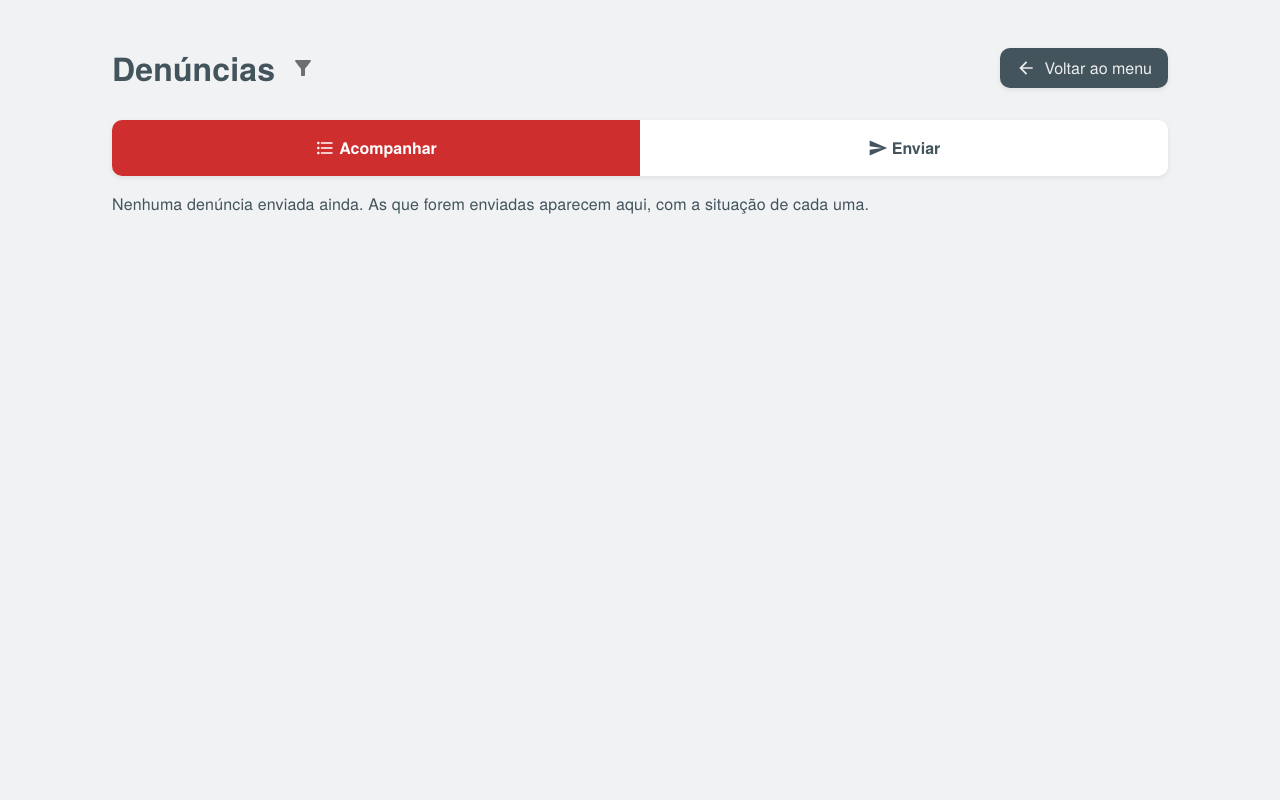
Test: Reports › should close the form and select the list tab again
Click the tab "Enviar" at {"x": 904, "y": 148}, box [640,120,1168,176]
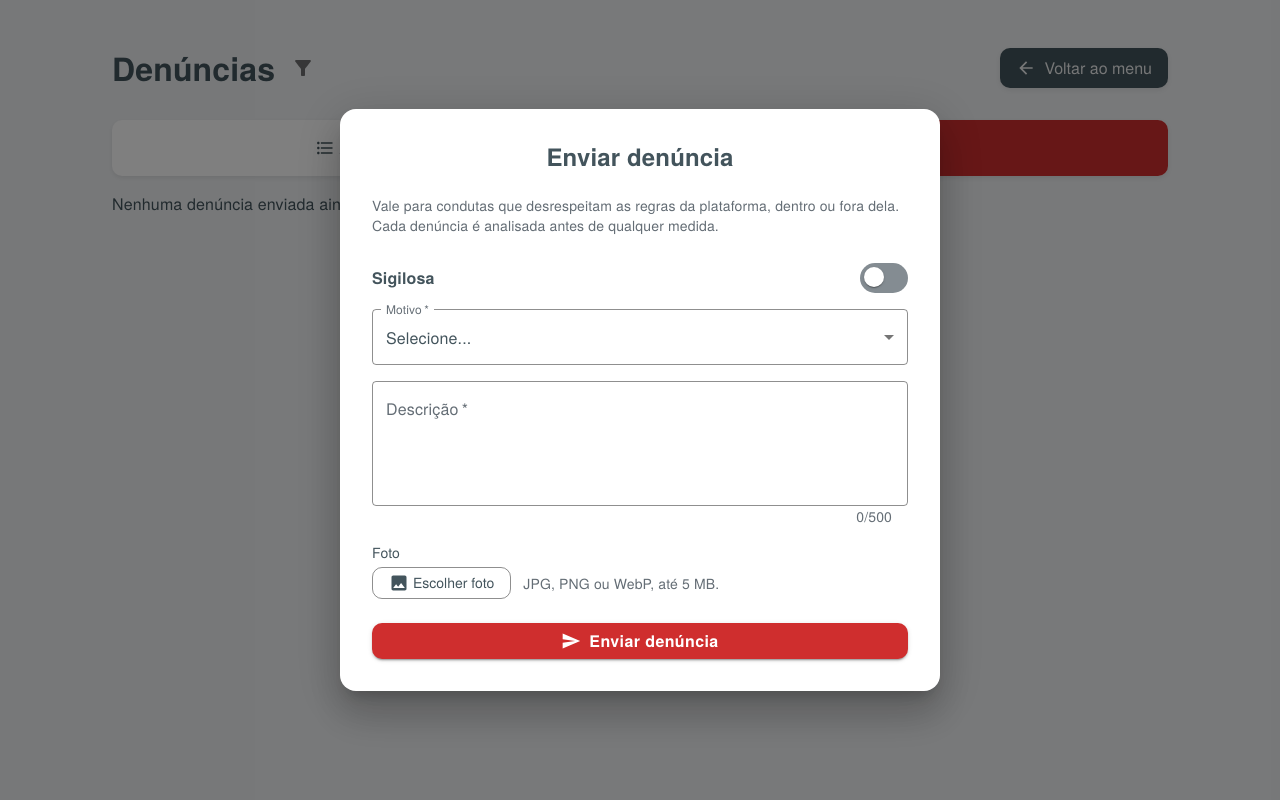
Now the heading "Enviar denúncia" is shown, box [546,139,734,173]
Press Escape
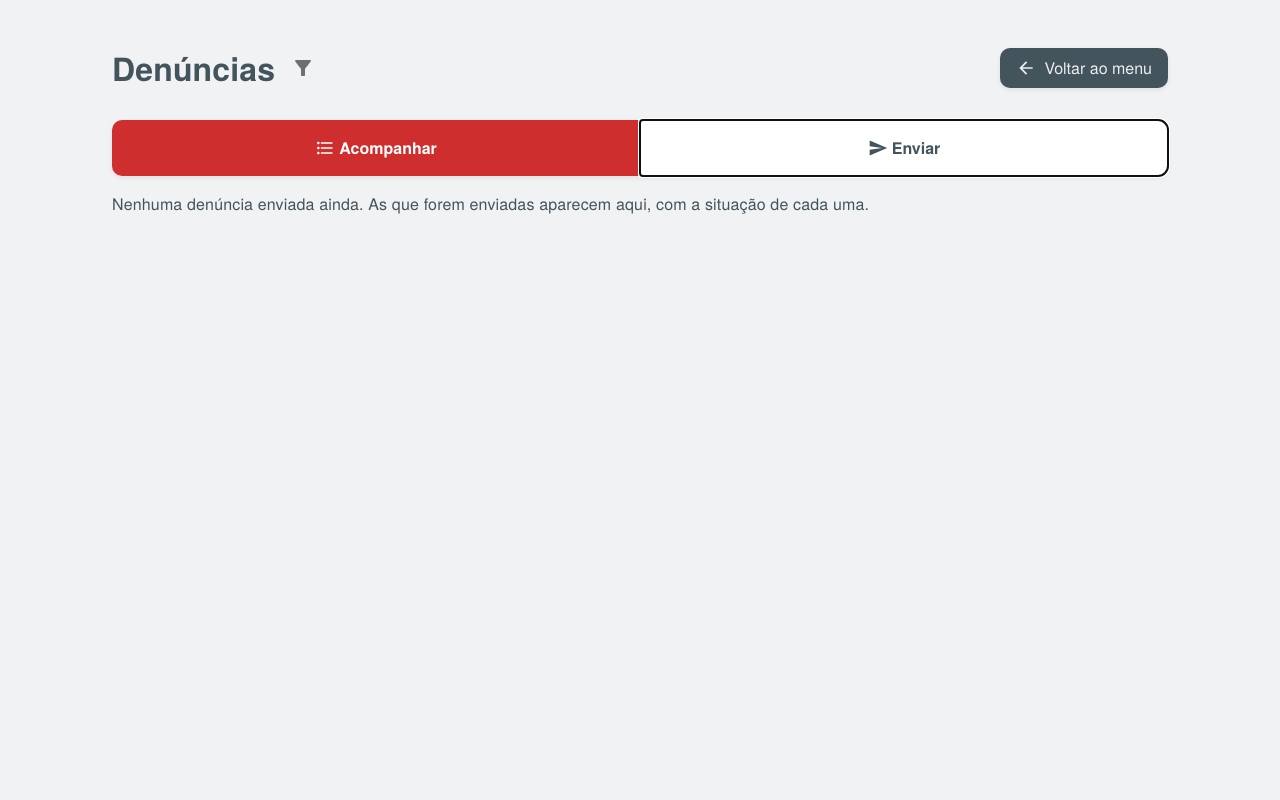
Now the heading "Enviar denúncia" is gone
